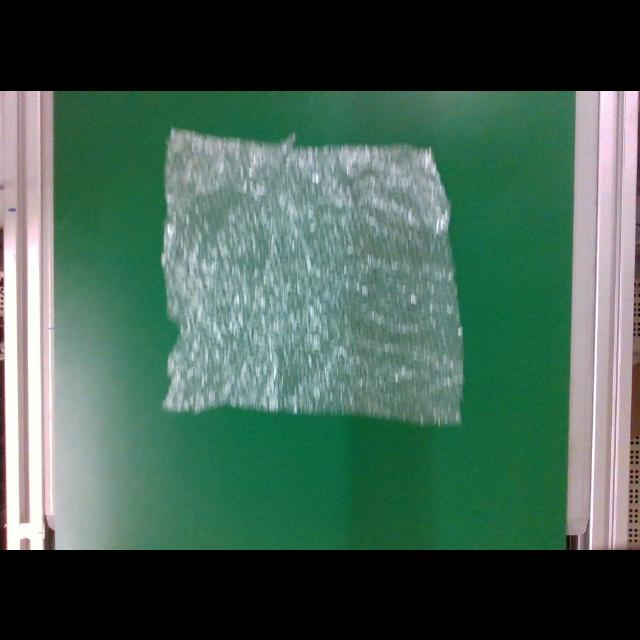scrap_plastic: (158, 123, 472, 427)
